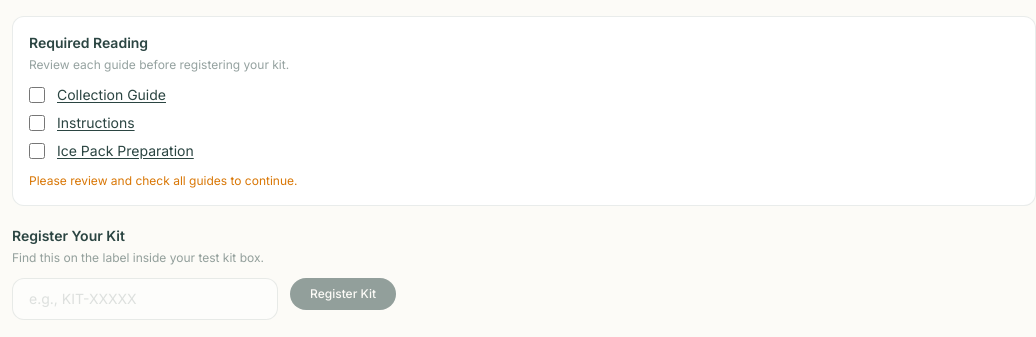
KitRegistrationForm › shows "Kit not found" error for invalid kit validation
Click the checkbox labelled "Collection Guide" at (37, 95), box [29, 87, 45, 103]
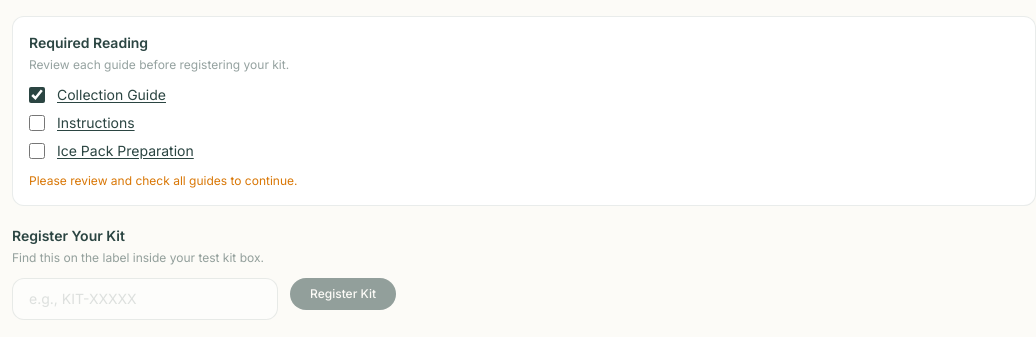
Click the checkbox labelled "Instructions" at (37, 123), box [29, 115, 45, 131]
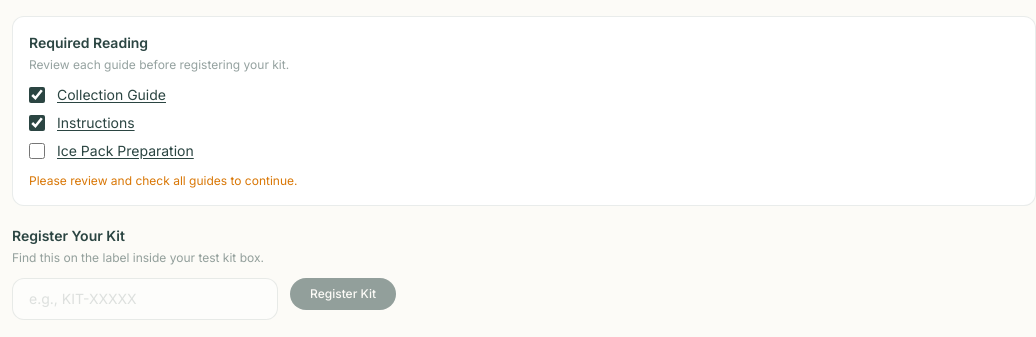
Click the checkbox labelled "Ice Pack Preparation" at (37, 151), box [29, 143, 45, 159]
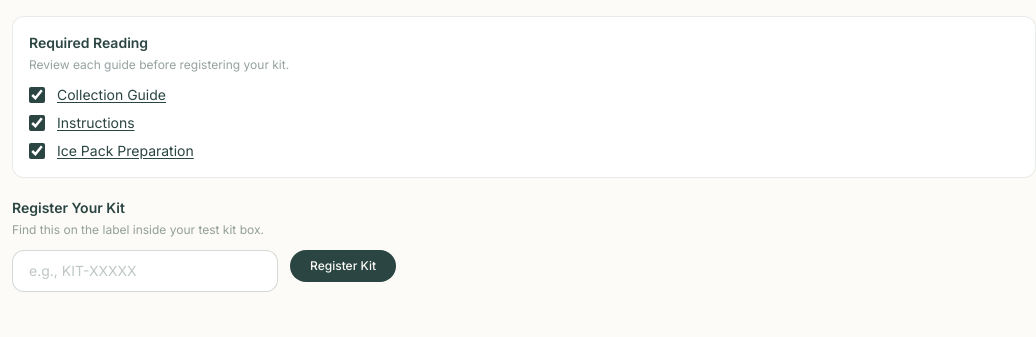
Type "INVALID-123" into the field with placeholder "e.g., KIT-XXXXX" at (145, 271), box [12, 250, 278, 292]
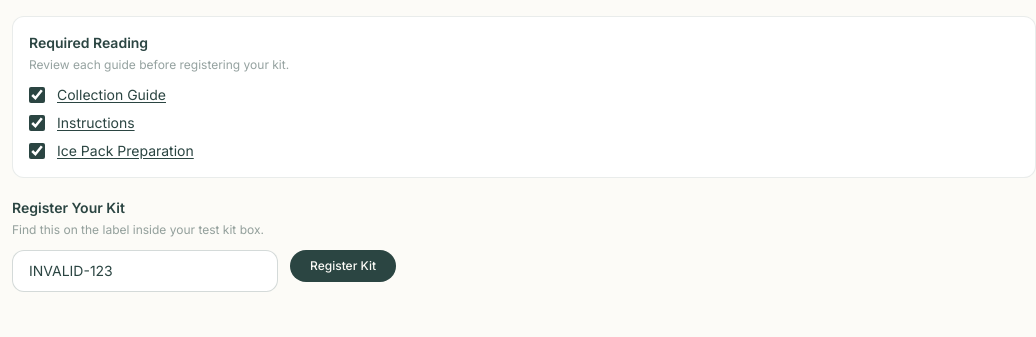
Click the button "Register Kit" at (343, 266), box [290, 250, 396, 282]
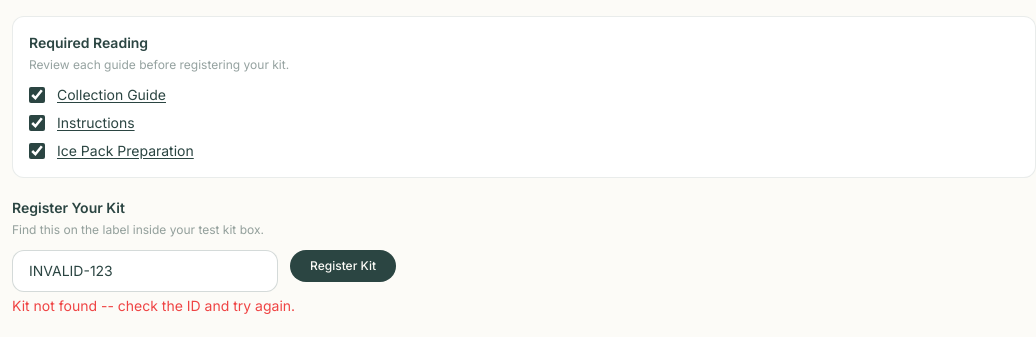
Expected: the text "Kit not found -- check the ID and try again." is shown, [12, 297, 295, 314]
